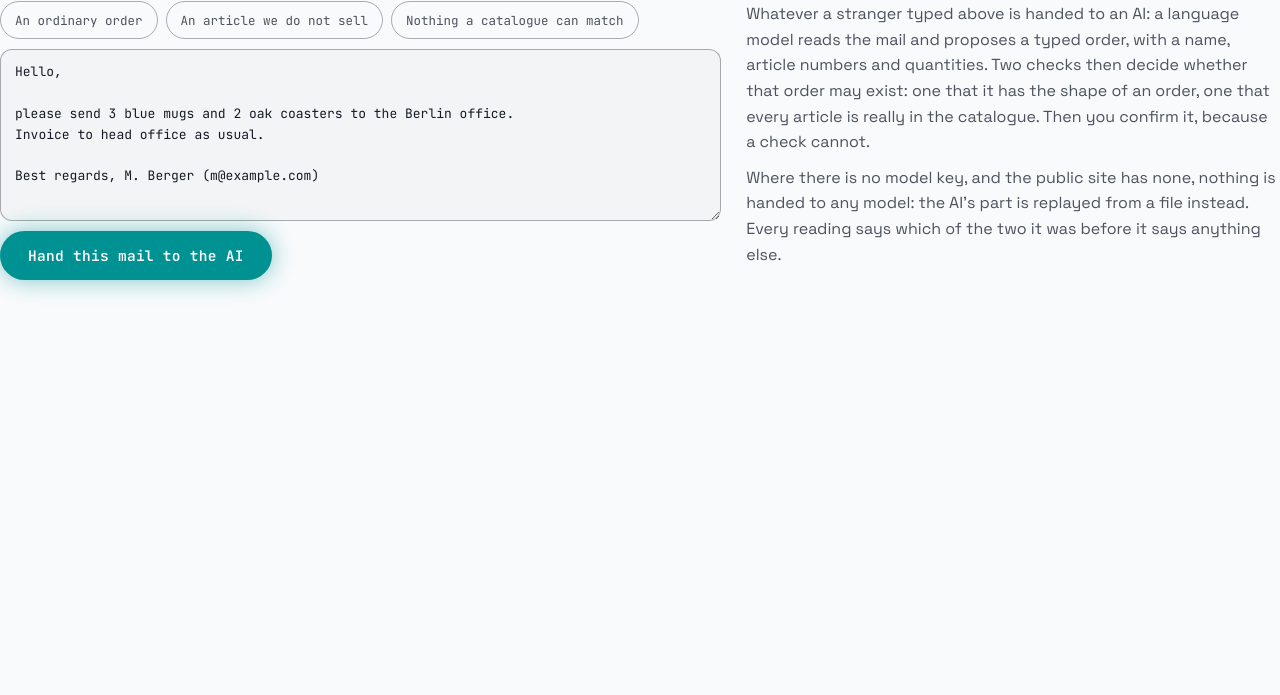
Test: MailOrder › sends the text to be read, and nothing else with it
Click the button with test id "read-mail".
click(136, 255)  # box [0,231,272,280]
(page scrolled)
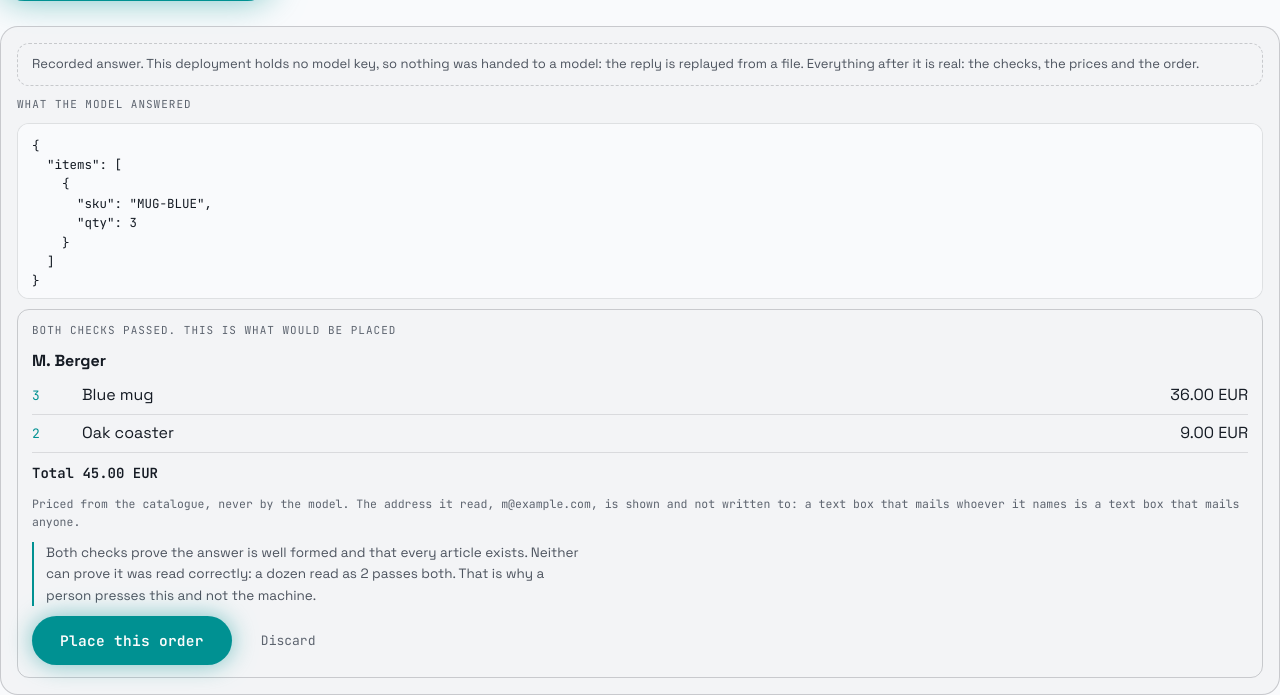
expect the element with test id "mail-reading" is shown: met
